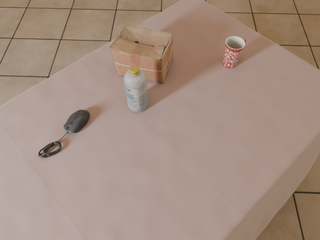bottle: (124, 65, 148, 112)
box: (110, 25, 174, 83)
cup: (223, 36, 246, 68)
mouse: (64, 110, 89, 134)
